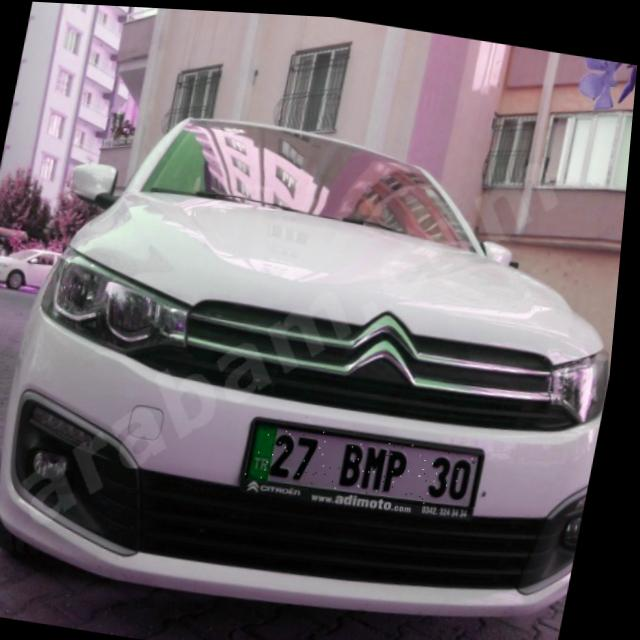license_plate: (251, 416, 492, 509)
